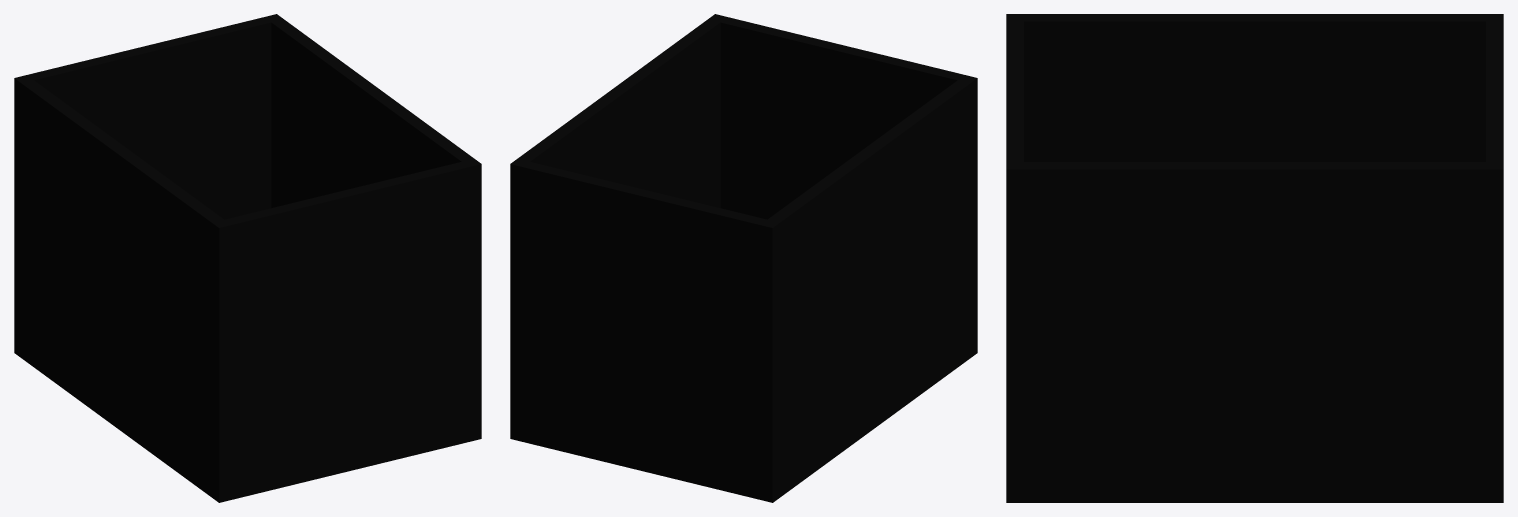
3 views of the same model, side by side, from view 1: azimuth 30°, elevation 25°; view 2: azimuth 150°, elevation 25°; view 3: azimuth 270°, elevation 25° (orthographic). The views are drawn at different scales.
Parts seen in each view (by area): view 1: Box_412x557x412; view 2: Box_412x557x412; view 3: Box_412x557x412.
Part boxes in pixels (x1=…): Box_412x557x412: x1=14, y1=14, x2=481, y2=502; Box_412x557x412: x1=510, y1=14, x2=977, y2=502; Box_412x557x412: x1=1006, y1=14, x2=1503, y2=502.
Size of the model in its own units: 0.412 by 0.412 by 0.557.
Materials: 1 (1 with a texture image).
